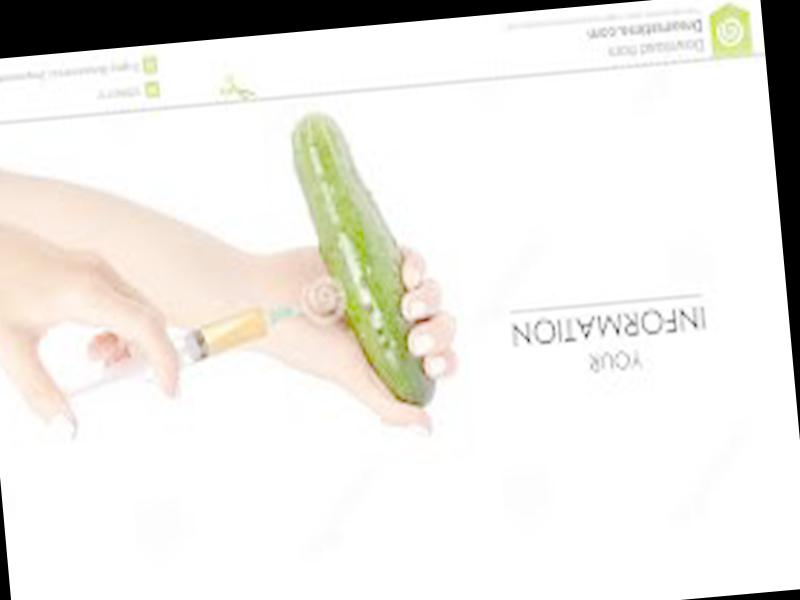Cucumber: (288, 104, 436, 417)
